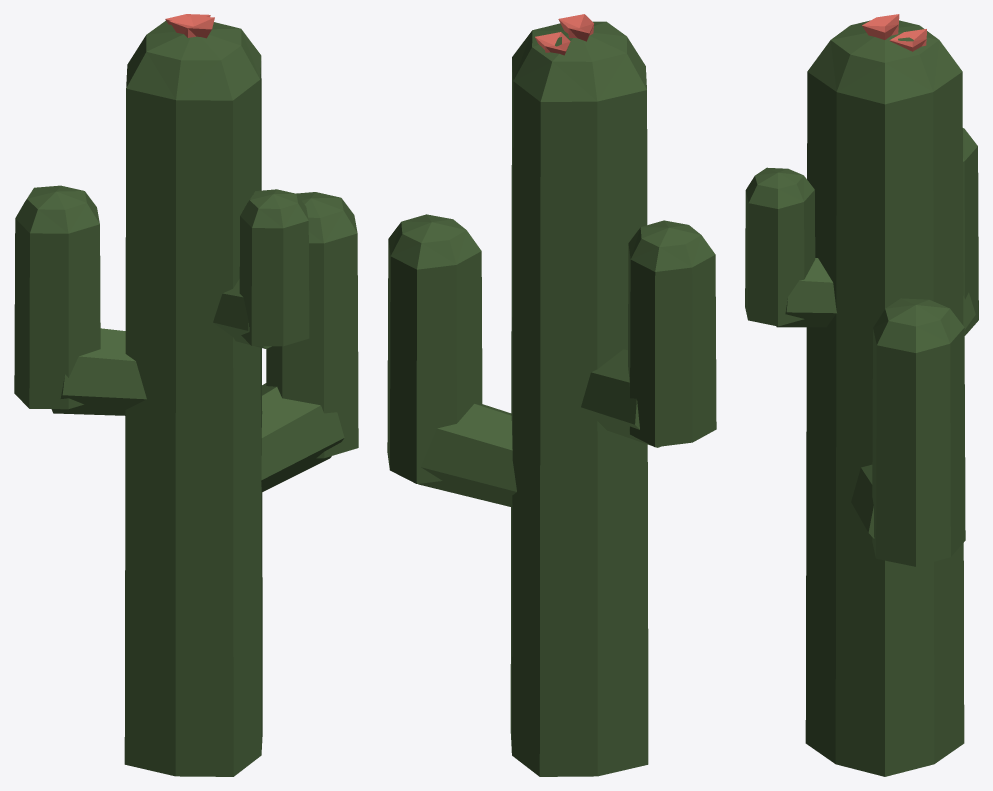
File: Cactus_Tall.fbx
The picture shows the model from 3 angles, left to right: view 1: azimuth 30°, elevation 25°; view 2: azimuth 150°, elevation 25°; view 3: azimuth 270°, elevation 25°; orthographic projection.
Visible parts, largest first — view 1: Body, Bloom; view 2: Body, Bloom; view 3: Body, Bloom.
Boxes of the visible parts, x1=… form: Body: x1=14, y1=21, x2=358, y2=776; Bloom: x1=165, y1=14, x2=214, y2=38; Body: x1=387, y1=21, x2=716, y2=776; Bloom: x1=535, y1=14, x2=593, y2=55; Body: x1=745, y1=20, x2=978, y2=776; Bloom: x1=862, y1=14, x2=926, y2=51.
Bounding box in the file's own units: 3.39 × 7.17 × 2.11.
